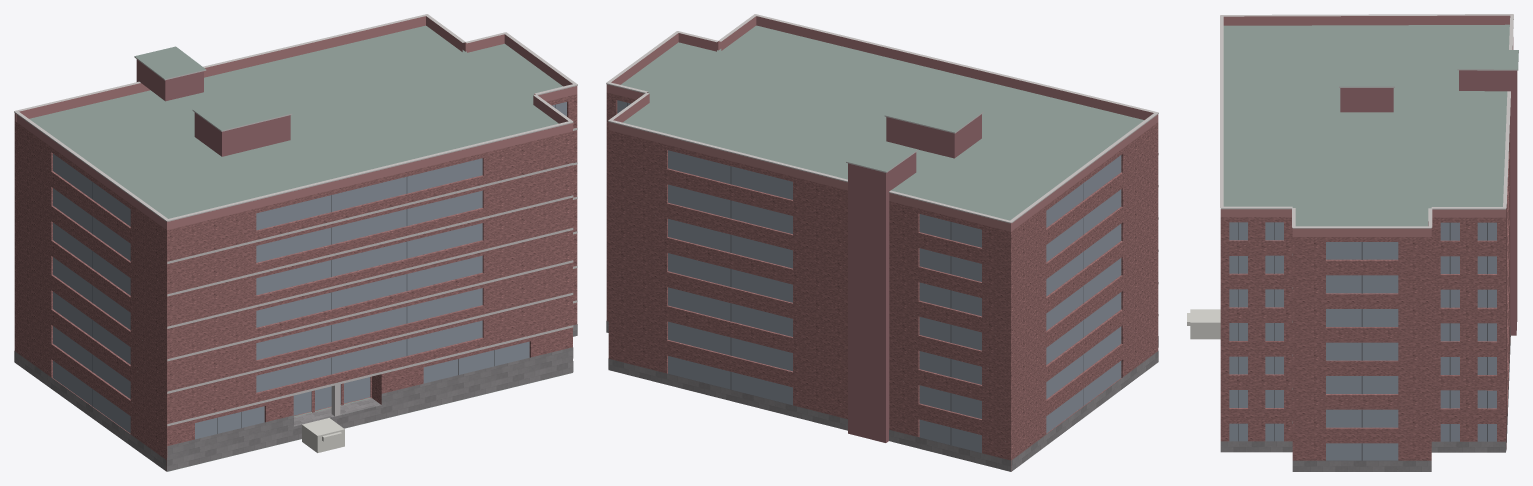
The picture shows the model from 3 angles, left to right: view 1: azimuth 30°, elevation 25°; view 2: azimuth 150°, elevation 25°; view 3: azimuth 270°, elevation 25°; orthographic projection. The views are drawn at different scales.
Parts seen in each view (by area): view 1: b152_1__wall, b152_1__roof, b152_1__glass, b152_1__base, b152_1__trim, b152_1__parapet, b152_1__wall2, b152_1__entranceStair; view 2: b152_1__wall, b152_1__roof, b152_1__glass, b152_1__wall2, b152_1__parapet, b152_1__base, b152_1__trim, b152_1__frame; view 3: b152_1__roof, b152_1__wall, b152_1__glass, b152_1__parapet, b152_1__wall2, b152_1__base, b152_1__trim, b152_1__entranceStair, b152_1__frame.
Boxes of the visible parts, x1=… form: b152_1__wall: x1=14, y1=94, x2=577, y2=471; b152_1__roof: x1=29, y1=25, x2=571, y2=471; b152_1__glass: x1=53, y1=102, x2=566, y2=439; b152_1__base: x1=14, y1=324, x2=577, y2=471; b152_1__trim: x1=14, y1=14, x2=577, y2=426; b152_1__parapet: x1=14, y1=16, x2=577, y2=230; b152_1__wall2: x1=136, y1=59, x2=290, y2=156; b152_1__entranceStair: x1=302, y1=418, x2=344, y2=452; b152_1__wall: x1=606, y1=92, x2=1158, y2=471; b152_1__roof: x1=621, y1=25, x2=1144, y2=220; b152_1__glass: x1=617, y1=100, x2=1121, y2=452; b152_1__wall2: x1=848, y1=114, x2=981, y2=442; b152_1__parapet: x1=606, y1=16, x2=1158, y2=231; b152_1__base: x1=606, y1=321, x2=1158, y2=471; b152_1__trim: x1=606, y1=14, x2=1158, y2=315; b152_1__frame: x1=627, y1=102, x2=1083, y2=444; b152_1__roof: x1=1223, y1=24, x2=1518, y2=226; b152_1__wall: x1=1220, y1=37, x2=1513, y2=460; b152_1__glass: x1=1229, y1=222, x2=1496, y2=460; b152_1__parapet: x1=1220, y1=15, x2=1510, y2=236; b152_1__wall2: x1=1340, y1=70, x2=1517, y2=335; b152_1__base: x1=1220, y1=326, x2=1510, y2=471; b152_1__trim: x1=1220, y1=14, x2=1518, y2=423; b152_1__entranceStair: x1=1187, y1=309, x2=1220, y2=339; b152_1__frame: x1=1238, y1=222, x2=1487, y2=460.
Size of the model in its own units: 49.19 by 28.89 by 32.25.
11 materials, 2 textured.
